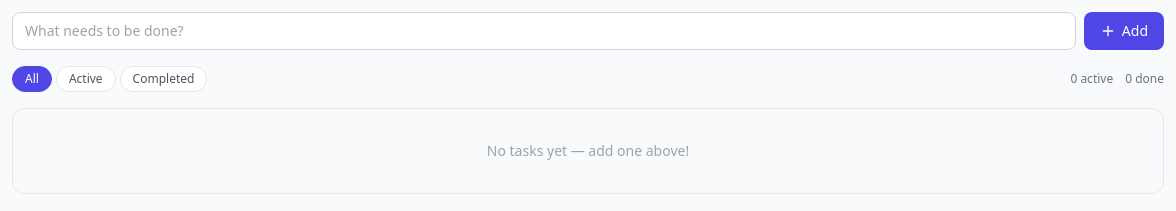
TodoList – functional › adds a todo via Enter
This screenshot has width=1176, height=211.
Type "Buy groceries" into the field at [544, 31], box [12, 12, 1076, 50]
Then press Enter
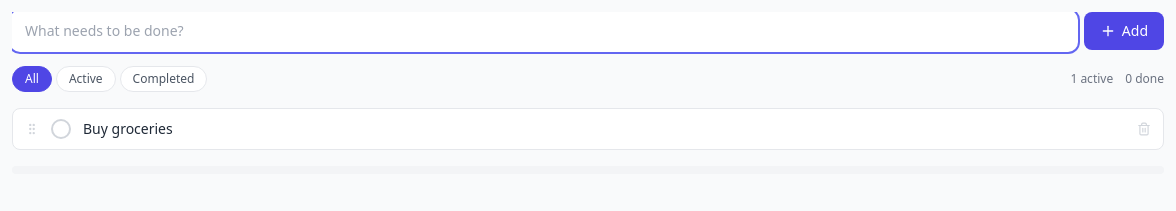
Expected: the text "Buy groceries" is shown, [83, 119, 173, 138]
